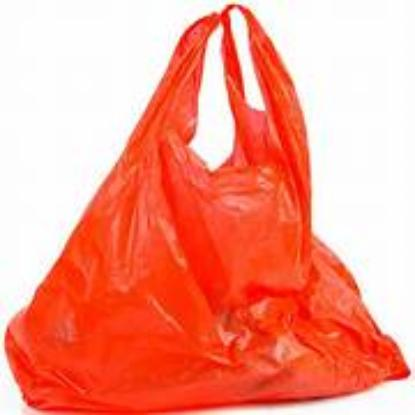Plastic Bag: (7, 6, 410, 410)
